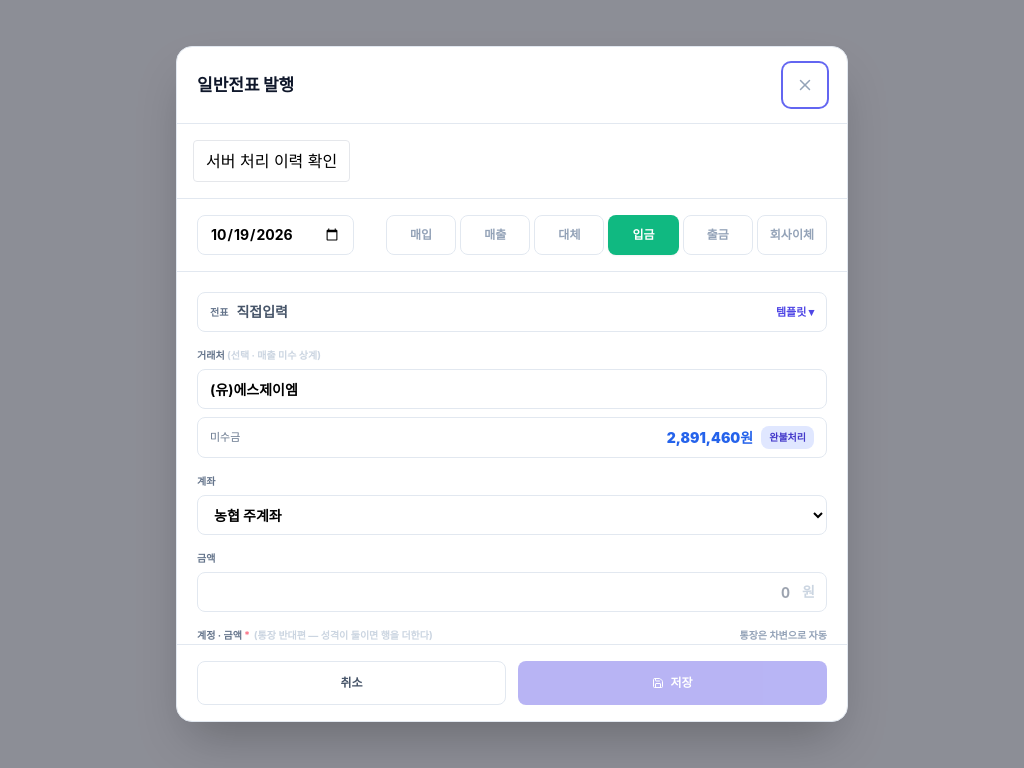
Test case: 입금 대체 출금 전환은 같은 hook 순서를 유지하고 보관 요청을 현재 전표로 저장하지 않는다
expect the button "저장" is disabled: met, box [518,661,827,705]
What coordinates should you click on to do the following:
click the button "대체"
I would click on:
 (569, 235)
Its box is [534,215,604,255].
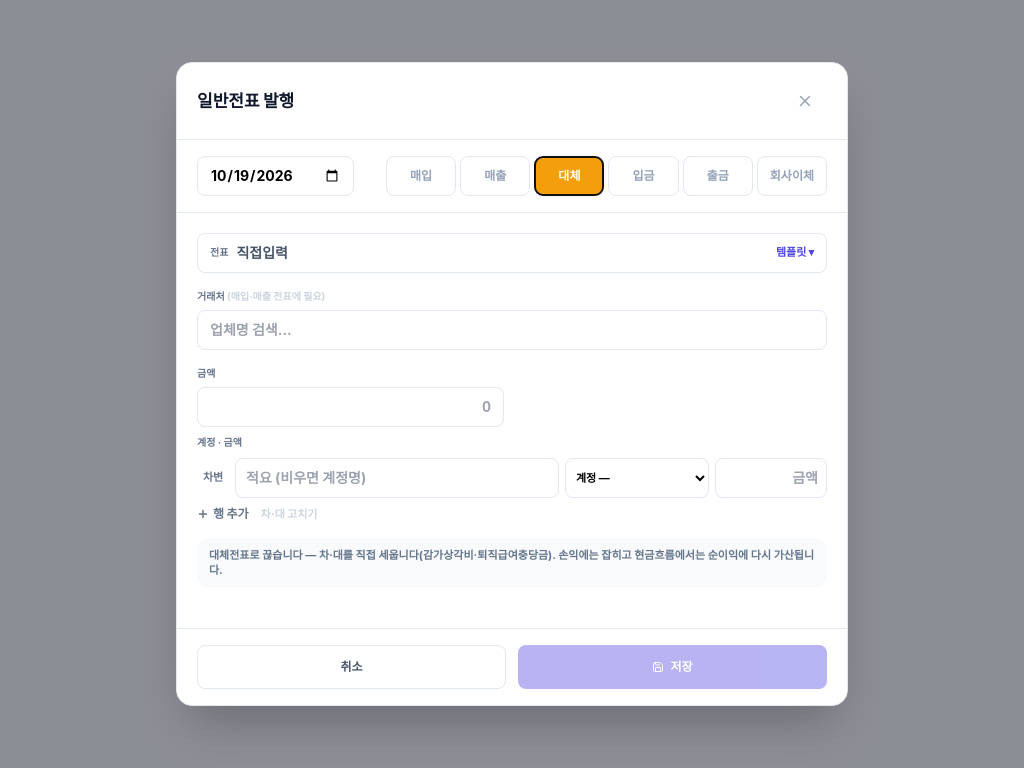
expect the dialog "일반전표 발행" is shown: met, box [176,62,848,706]
What coordinates should you click on to do the following:
click the button "출금"
I would click on:
 (718, 176)
Its box is [683,156,753,196].
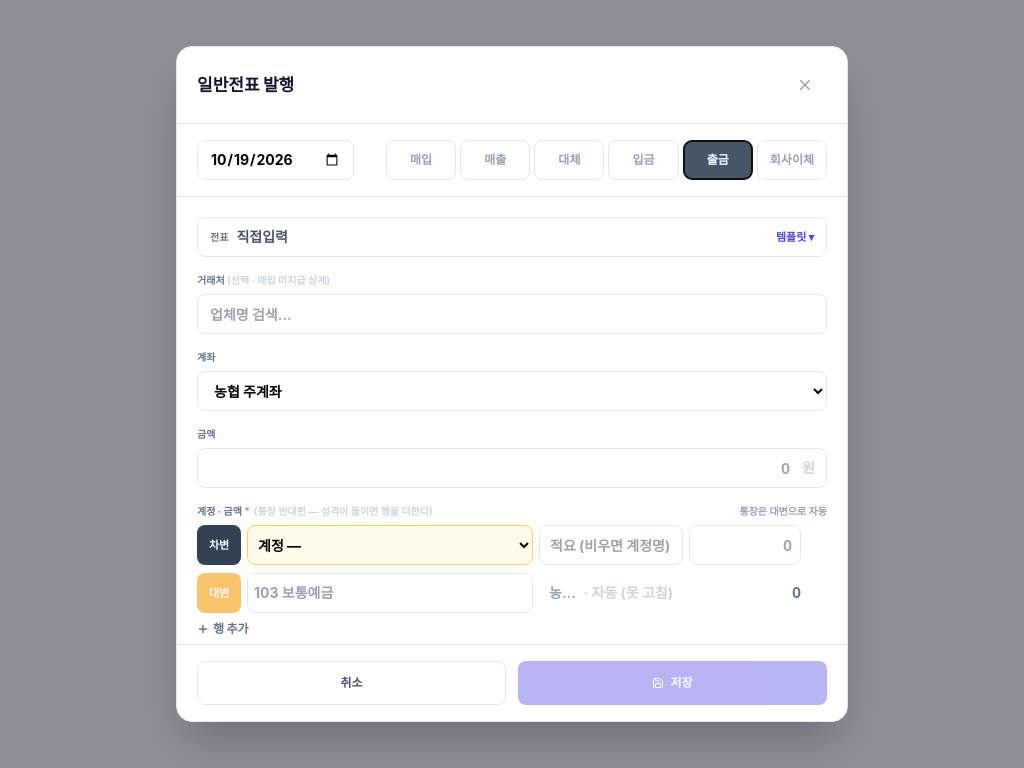
expect the field named "금액" is shown: met, box [197,448,827,488]
